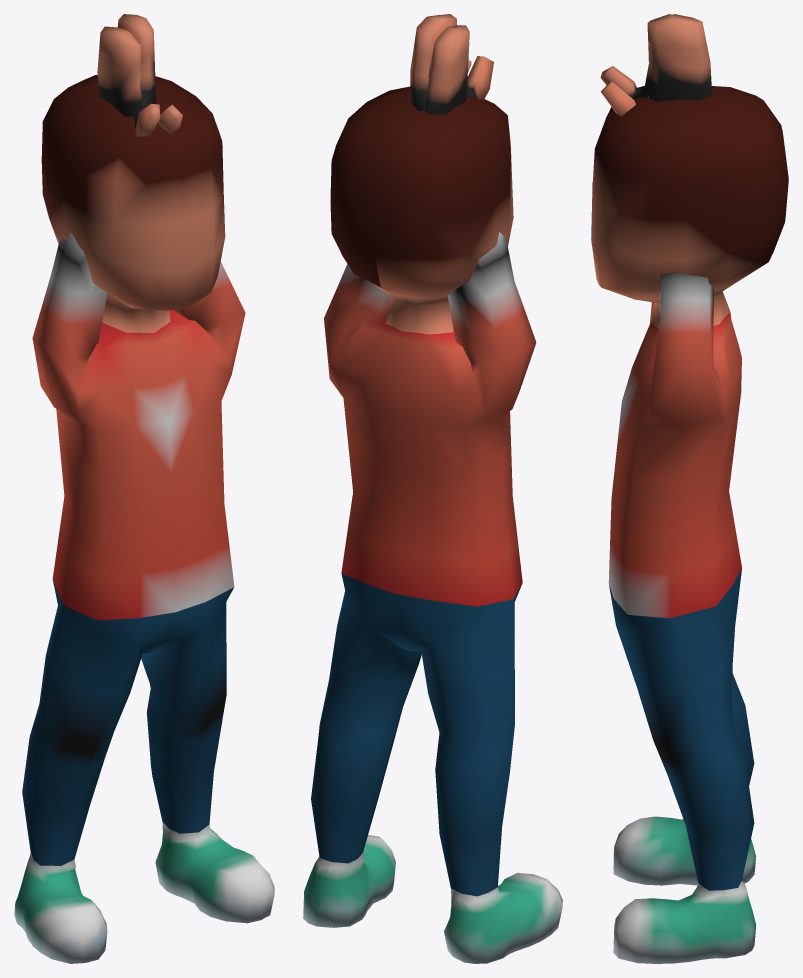
Rendered from spectatorA.glb.
The picture shows the model from 3 angles, left to right: view 1: azimuth 30°, elevation 25°; view 2: azimuth 150°, elevation 25°; view 3: azimuth 270°, elevation 25°; orthographic projection.
Visible parts, largest first — view 1: spectatorA; view 2: spectatorA; view 3: spectatorA.
Boxes of the visible parts, <box> form: spectatorA: <box>14,14,274,963</box>; spectatorA: <box>303,14,562,963</box>; spectatorA: <box>591,14,788,963</box>.
Bounding box in the file's own units: 0.5626 × 2.12 × 0.4269.
